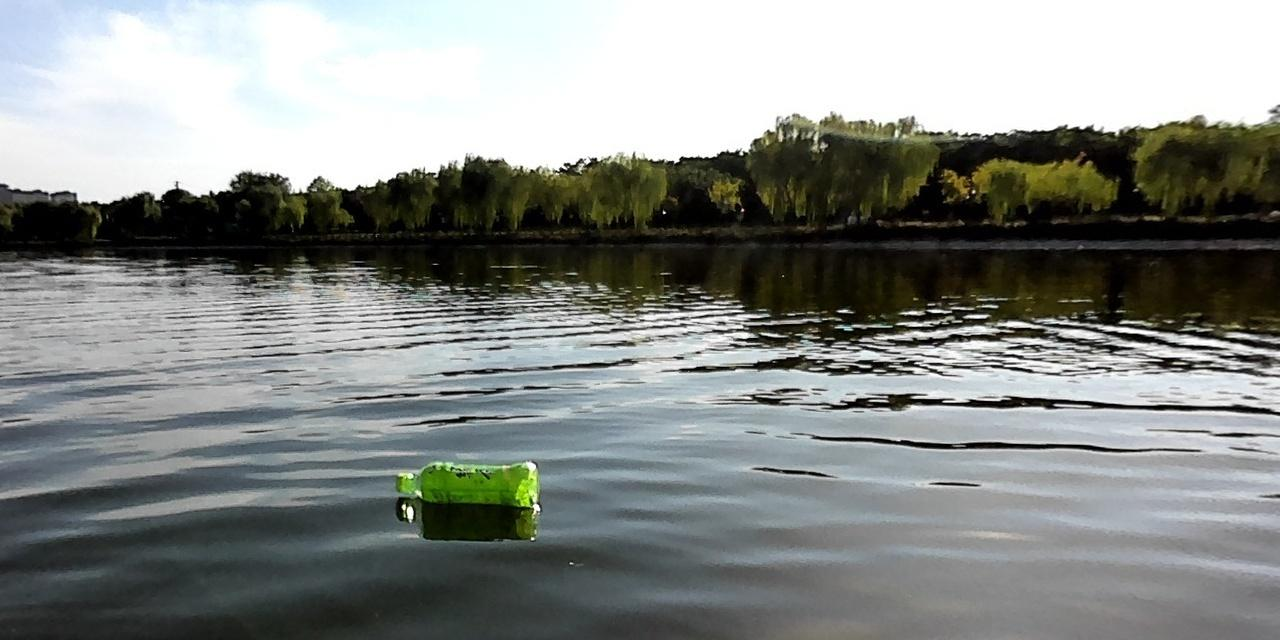bottle: (392, 458, 537, 506)
